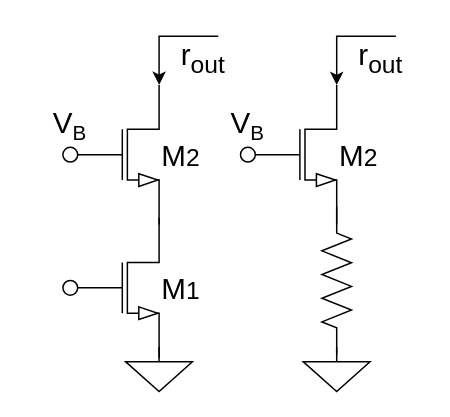
The diagram is 450 pixels wide and 417 high, and some of its shapes have lost their labels. The centre of each missing label's shape, as x and y in pixels:
"r o1" belongs at point 336,279.
"V in" belongs at point 114,287.
